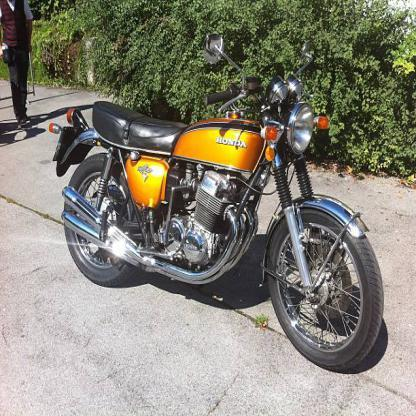Motorcycle: (47, 35, 385, 380)
